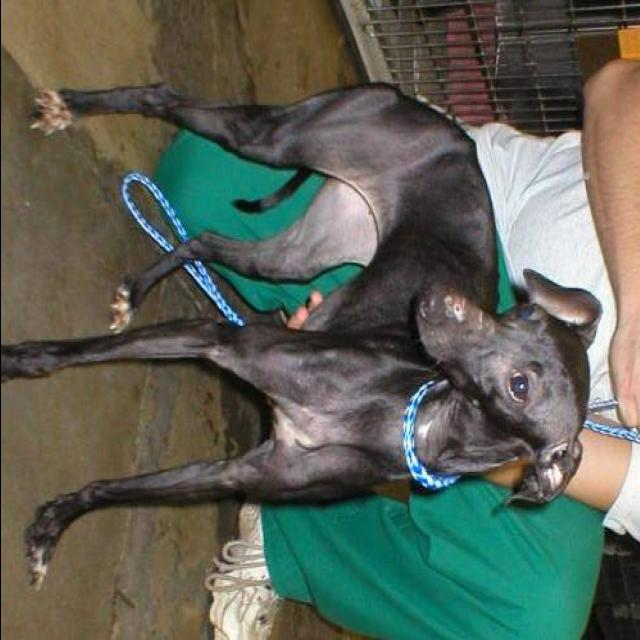dog: (0, 68, 604, 608)
